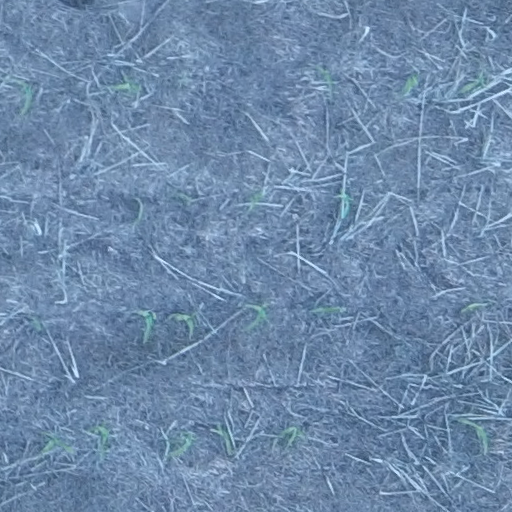planta: (1, 76, 33, 116), (457, 417, 489, 456), (165, 433, 194, 457), (107, 73, 142, 92), (89, 424, 109, 456), (458, 73, 488, 93), (137, 308, 155, 341), (172, 312, 195, 337), (214, 425, 233, 455), (397, 73, 418, 99), (41, 434, 71, 452), (336, 188, 352, 220), (248, 302, 267, 328), (279, 426, 300, 448), (313, 64, 333, 85), (312, 305, 344, 314)
